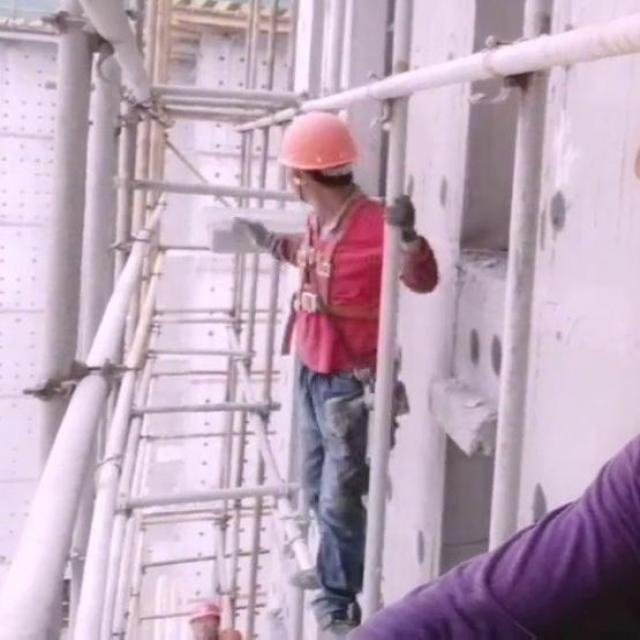Arnes_seguridad: (280, 187, 384, 326)
